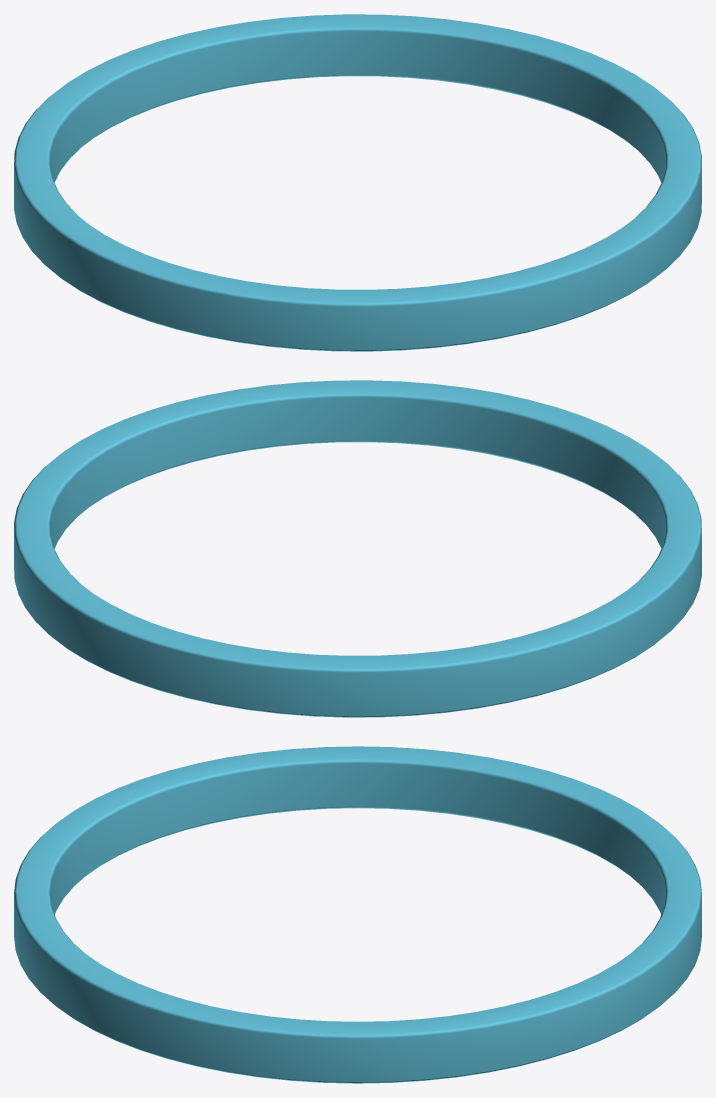
3 renders of one model, top to bottom at view 1: azimuth 30°, elevation 25°; view 2: azimuth 150°, elevation 25°; view 3: azimuth 270°, elevation 25°, orthographic.
Parts seen in each view (by area): view 1: seal_body; view 2: seal_body; view 3: seal_body.
Boxes of the visible parts, bbox=[...] form: seal_body: bbox=[14, 14, 701, 351]; seal_body: bbox=[14, 380, 701, 717]; seal_body: bbox=[14, 746, 701, 1083].
Bounding box in the file's own units: 0.2413 × 0.0191 × 0.2413.
